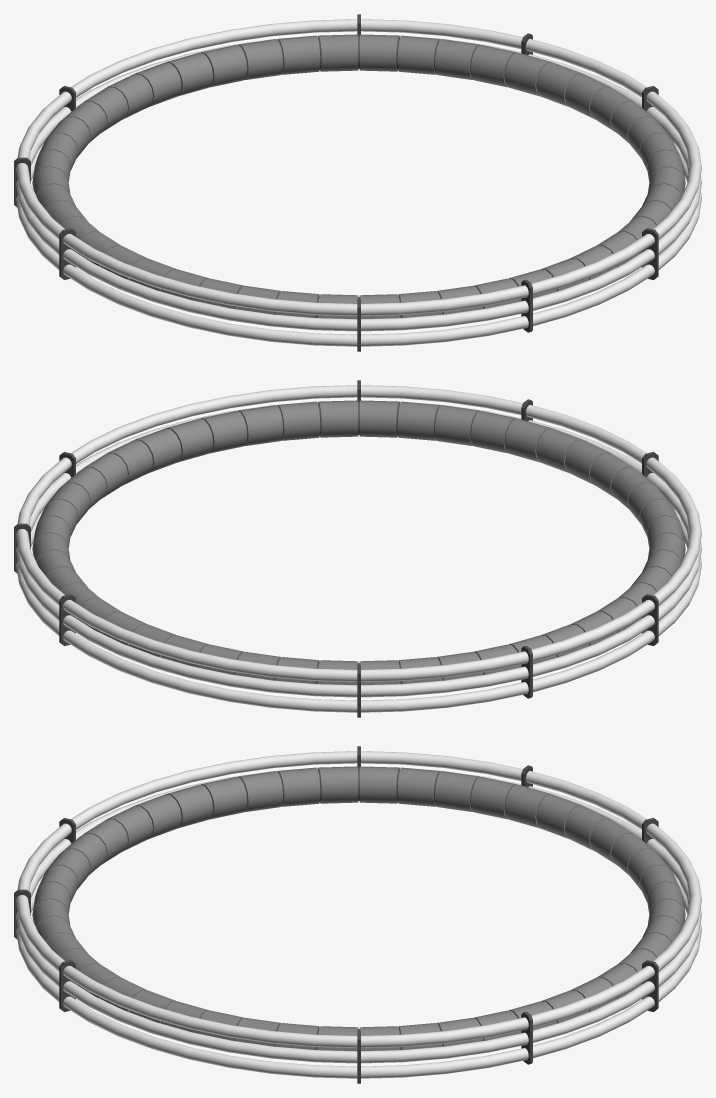
Rendered from portal1_1.obj.
3 views of the same model, one above another, from view 1: azimuth 30°, elevation 25°; view 2: azimuth 150°, elevation 25°; view 3: azimuth 270°, elevation 25° (orthographic).
Visible parts, largest first — view 1: portal1_1; view 2: portal1_1; view 3: portal1_1.
Boxes of the visible parts, x1,y1,x2,y2 form: portal1_1: [14, 14, 701, 351]; portal1_1: [14, 380, 701, 717]; portal1_1: [14, 746, 701, 1083].
Size of the model in its own units: 81.61 by 6.37 by 81.37.
1 material, 1 textured.
